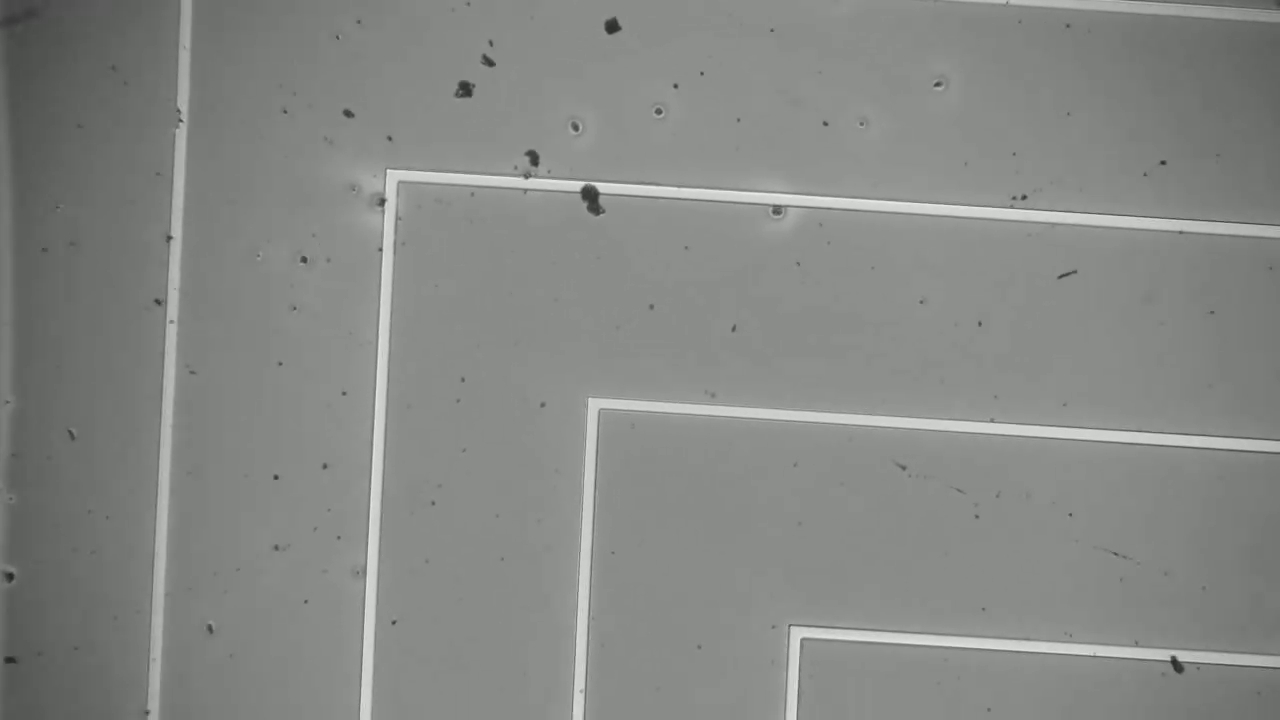edge_bite: (167, 94, 195, 138)
stains_enbedded: (575, 171, 609, 223), (1163, 643, 1197, 687), (368, 188, 405, 218)
